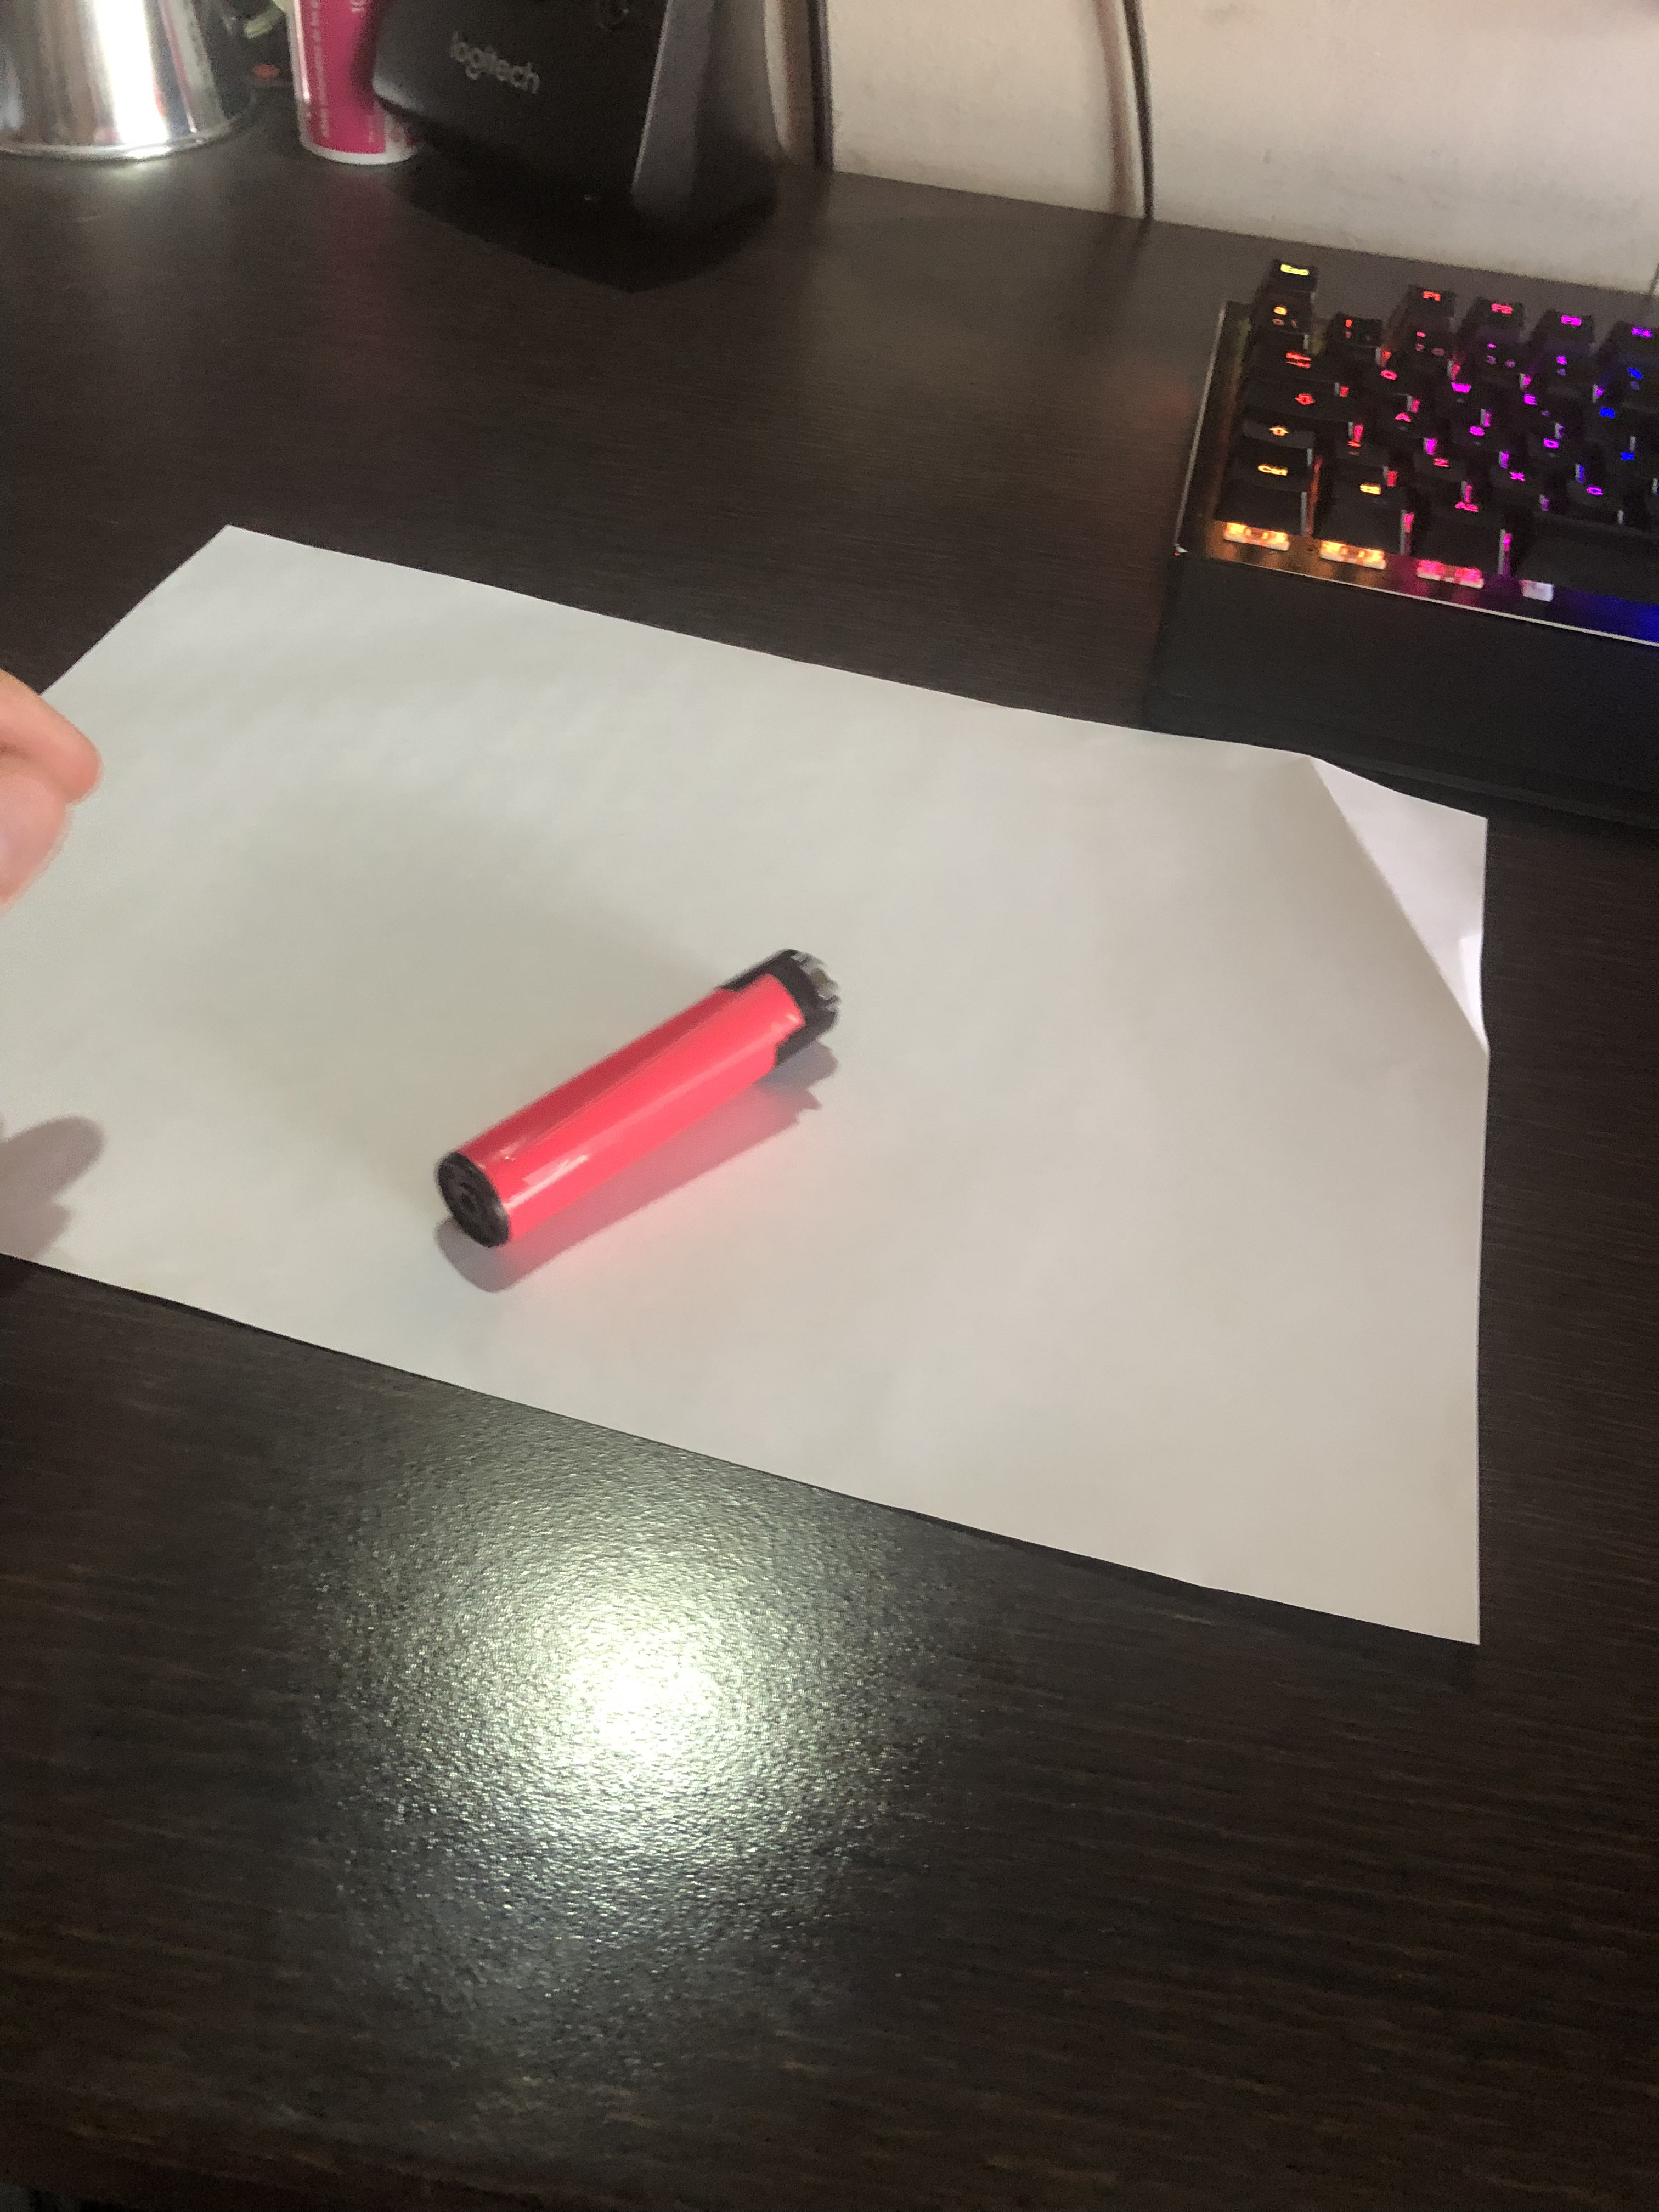Mechero: (411, 934, 852, 1259)
